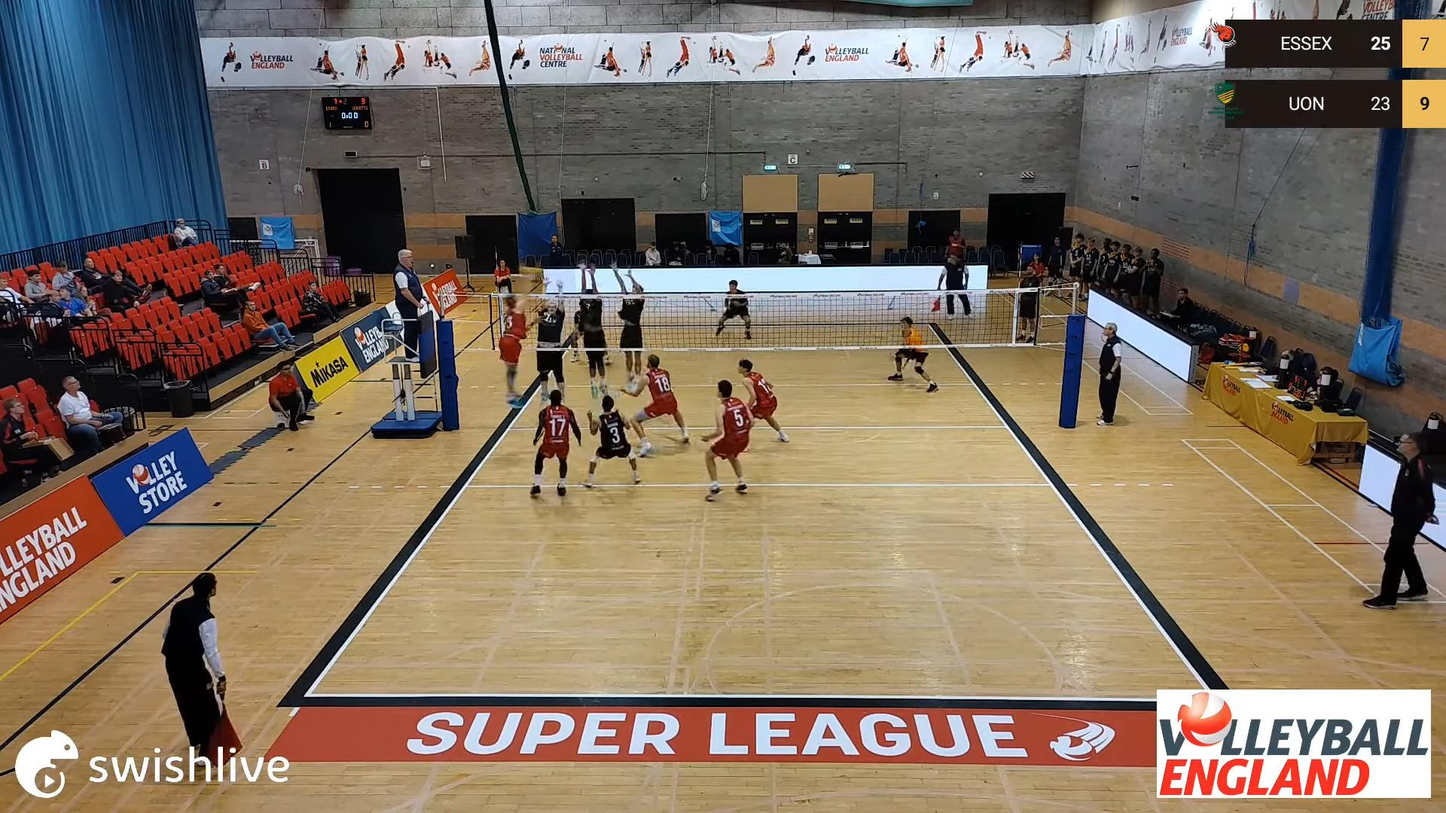attacco: (497, 280, 544, 406)
muro: (571, 261, 613, 405), (609, 263, 651, 394), (532, 276, 573, 410)
